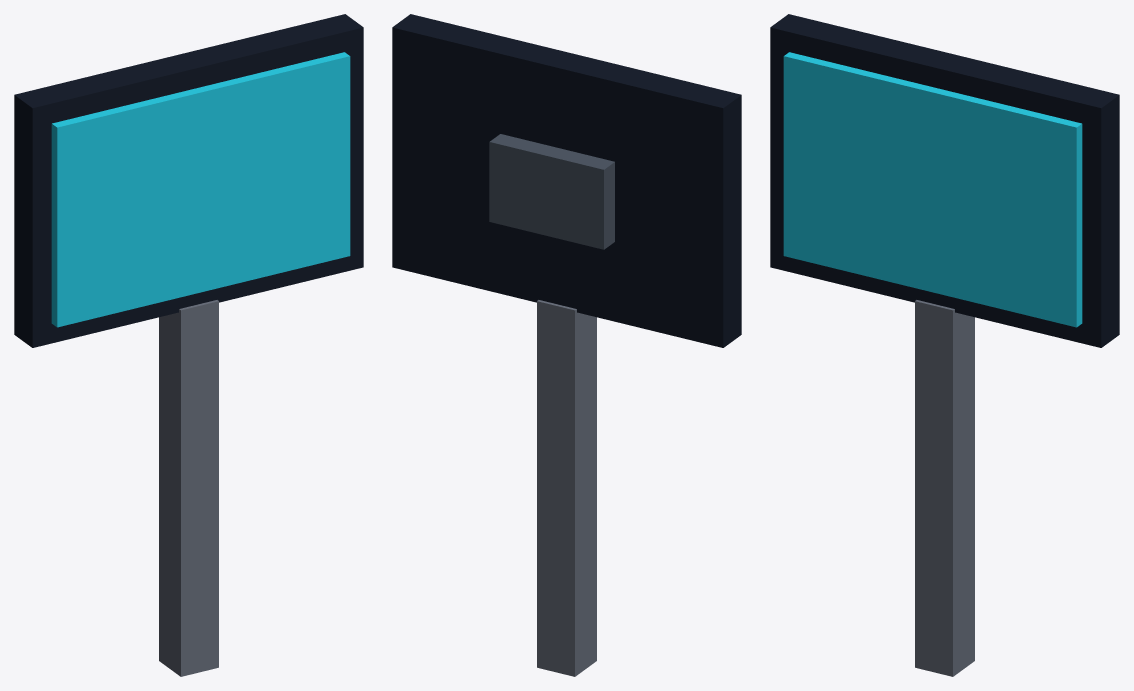
Rendered from parametric-source.glb.
The picture shows the model from 3 angles, left to right: view 1: azimuth 30°, elevation 25°; view 2: azimuth 150°, elevation 25°; view 3: azimuth 330°, elevation 25°; orthographic projection.
Visible parts, largest first — view 1: openclinxr.equipment.monitor_equipment.screen, openclinxr.equipment.monitor_equipment.bezel, openclinxr.equipment.monitor_equipment.mast; view 2: openclinxr.equipment.monitor_equipment.bezel, openclinxr.equipment.monitor_equipment.mast, openclinxr.equipment.monitor_equipment.wall_plate; view 3: openclinxr.equipment.monitor_equipment.screen, openclinxr.equipment.monitor_equipment.bezel, openclinxr.equipment.monitor_equipment.mast.
Part boxes in pixels (bbox=[...]): openclinxr.equipment.monitor_equipment.screen: bbox=[51, 52, 350, 327]; openclinxr.equipment.monitor_equipment.bezel: bbox=[14, 14, 363, 347]; openclinxr.equipment.monitor_equipment.mast: bbox=[159, 300, 218, 676]; openclinxr.equipment.monitor_equipment.bezel: bbox=[392, 14, 741, 347]; openclinxr.equipment.monitor_equipment.mast: bbox=[537, 300, 596, 676]; openclinxr.equipment.monitor_equipment.wall_plate: bbox=[489, 134, 614, 249]; openclinxr.equipment.monitor_equipment.screen: bbox=[783, 52, 1082, 327]; openclinxr.equipment.monitor_equipment.bezel: bbox=[770, 14, 1119, 347]; openclinxr.equipment.monitor_equipment.mast: bbox=[915, 300, 974, 676].
Bounding box in the file's own units: 0.52 × 0.905 × 0.095.
